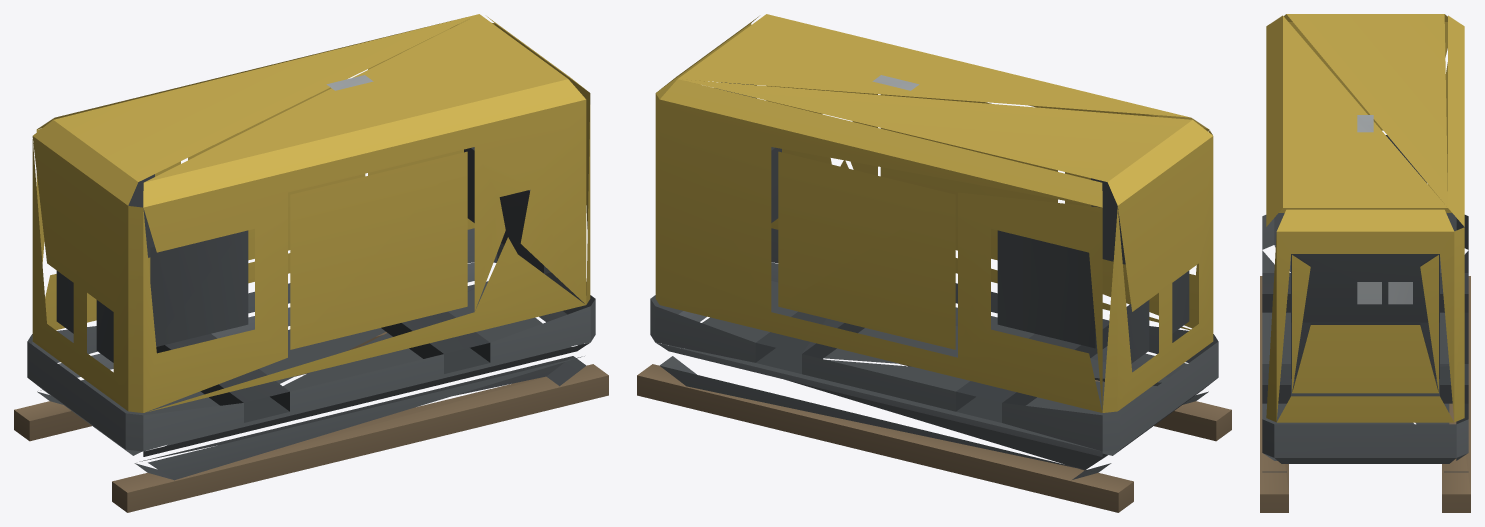
File: genset.lod.glb
3 renders of one model, left to right at view 1: azimuth 30°, elevation 25°; view 2: azimuth 150°, elevation 25°; view 3: azimuth 270°, elevation 25°, orthographic. The views are drawn at different scales.
Parts seen in each view (by area): view 1: genset; view 2: genset; view 3: genset.
Part boxes in pixels (x1=…): genset: x1=14, y1=14, x2=608, y2=512; genset: x1=637, y1=14, x2=1231, y2=512; genset: x1=1260, y1=14, x2=1470, y2=512.
Bounding box in the file's own units: 2.5 × 1.59 × 1.02.
